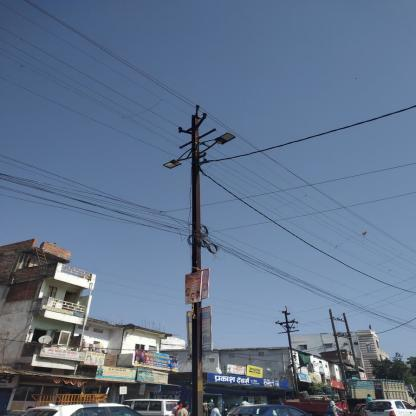Electrical Pole: (161, 96, 240, 416)
